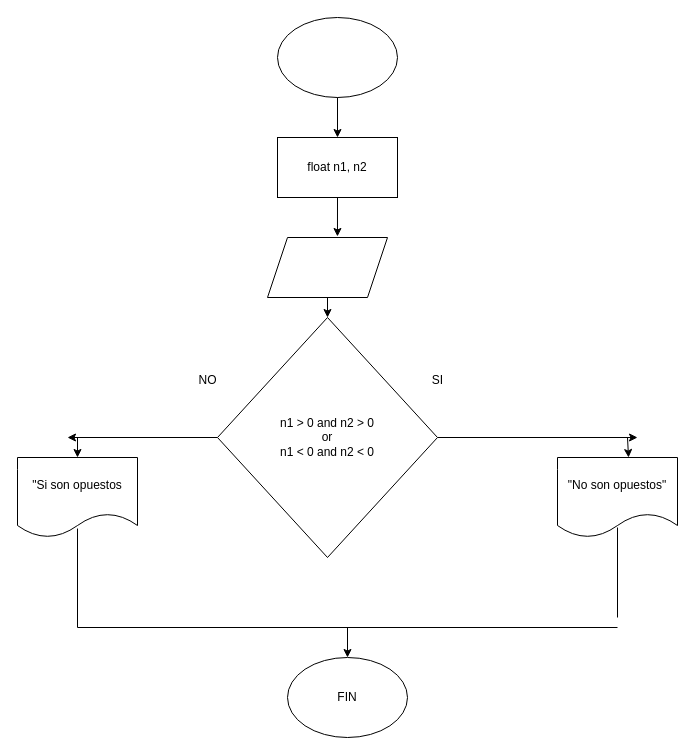
Image size: 695x755. Some labels were removed from this diagram. Each missing label, with the centre of its shape:
"inicio" goes at point (337, 57).
"n1, n2" goes at point (327, 267).
